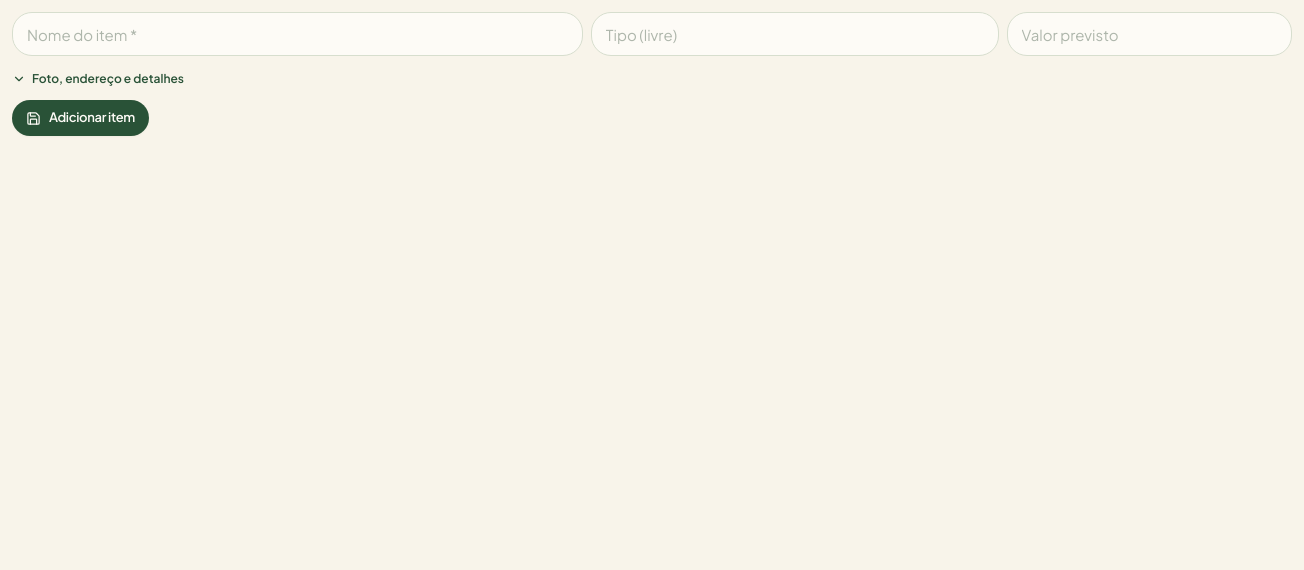
Test: FormItemLista › rejeita URL de foto inválida
The width and height of the screenshot is (1304, 570).
Type "Item" into the field labelled "Nome do item" at (297, 34), box [12, 12, 583, 56]
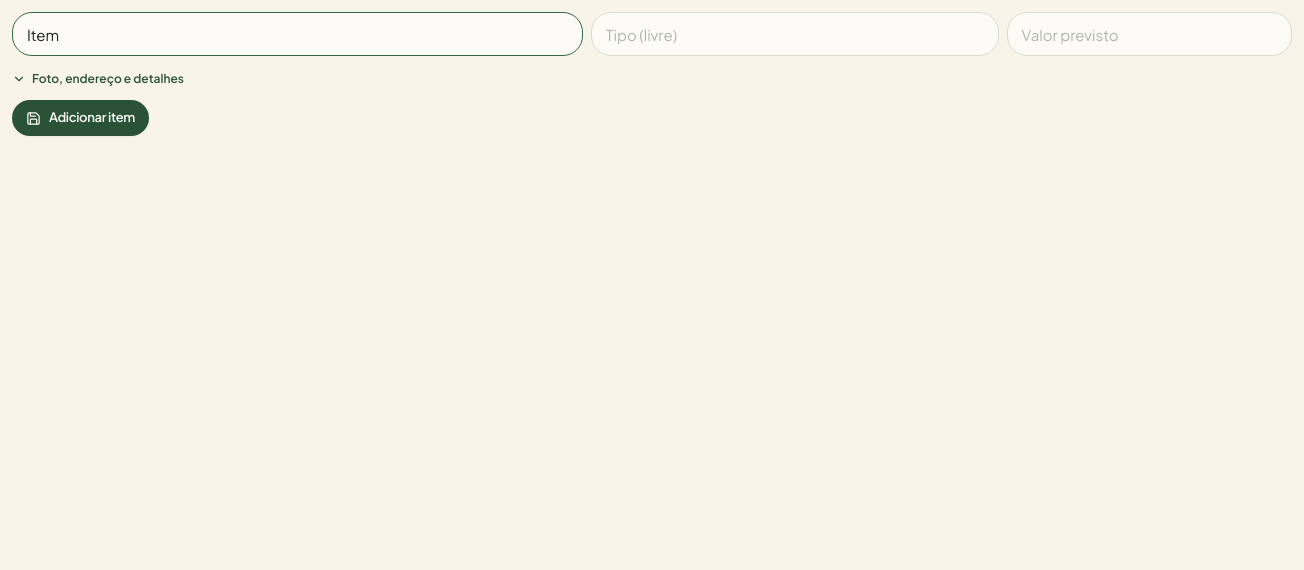
Click the button "Foto, endereço e detalhes" at (98, 79), box [12, 70, 184, 88]
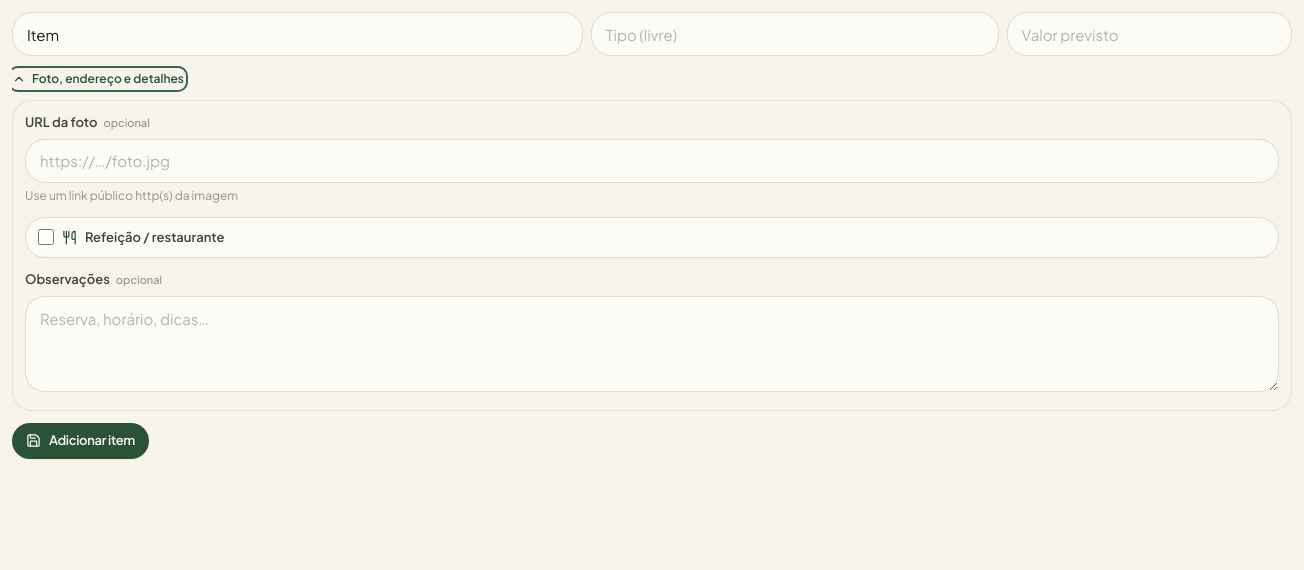
Type "foto.jpg" into the field with placeholder "https://…/foto.jpg" at (652, 160), box [25, 138, 1279, 182]
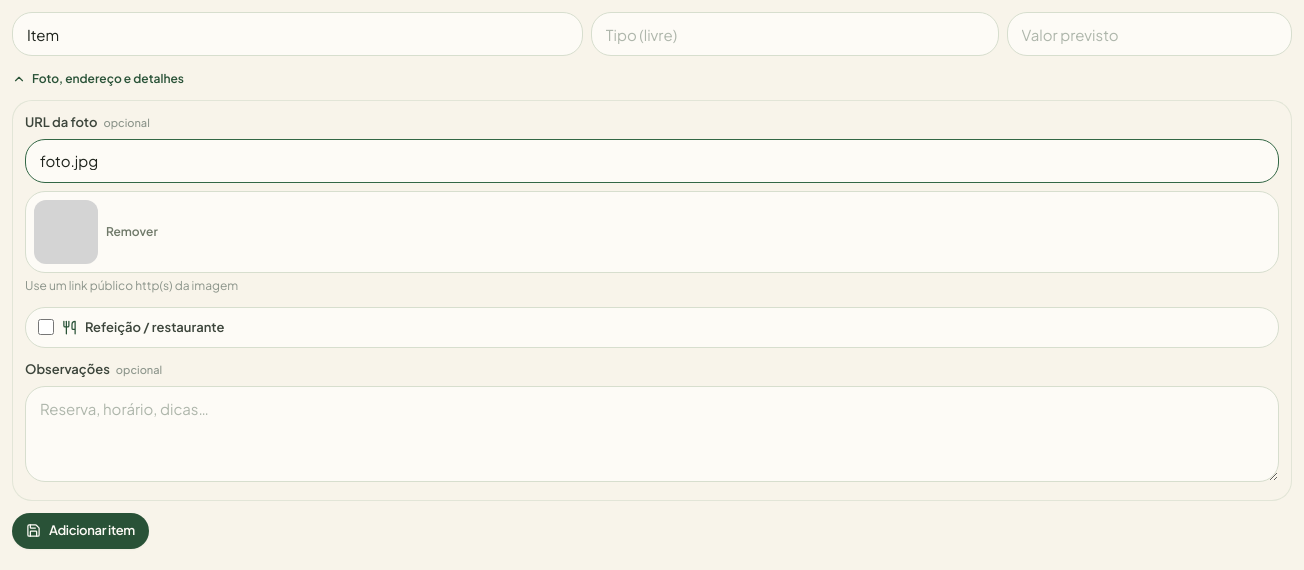
Click the button "Adicionar item" at (80, 530), box [12, 512, 149, 548]
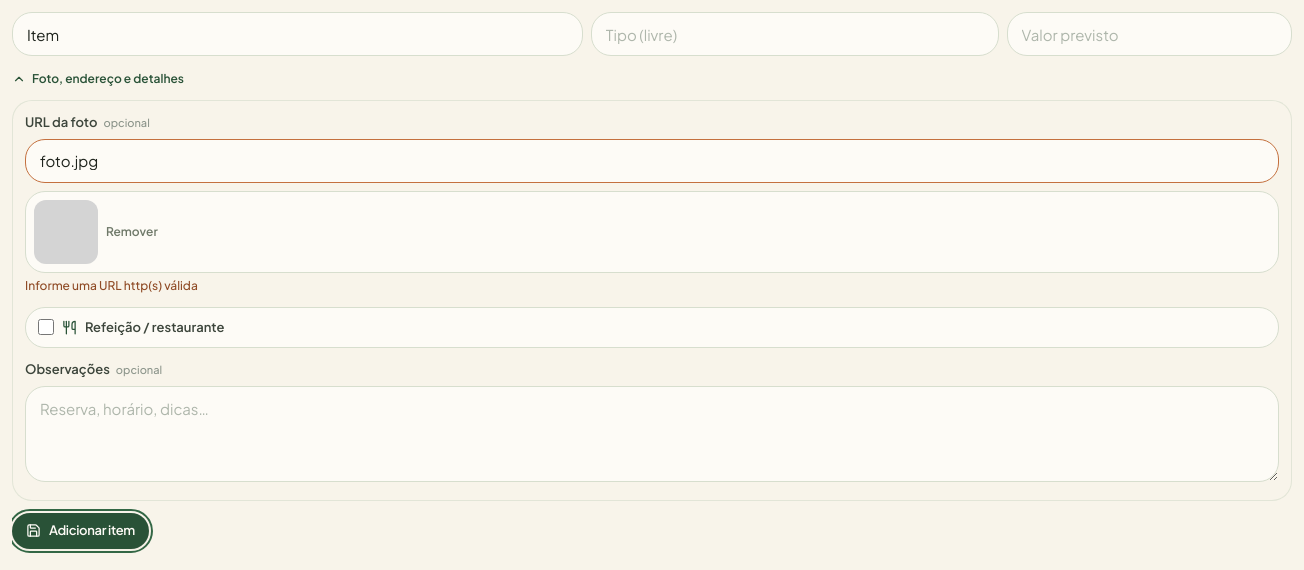
expect the text "Informe uma URL http(s) válida" is shown: met, box [25, 278, 198, 292]
